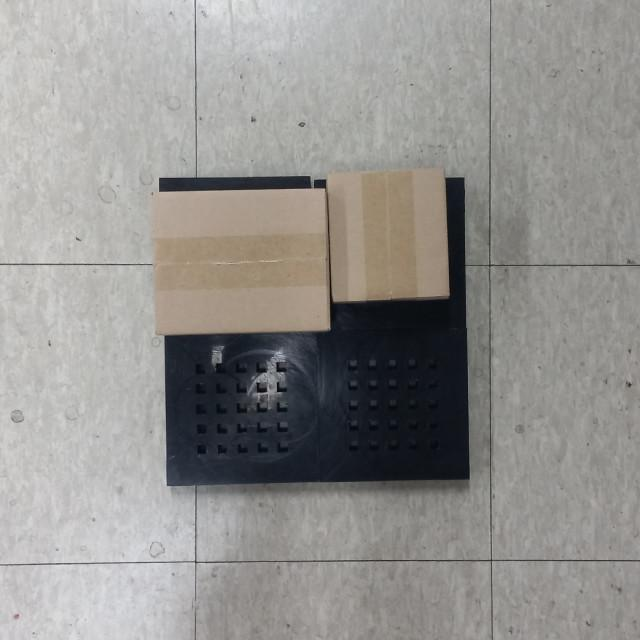box: (147, 185, 330, 339), (324, 162, 454, 304)
